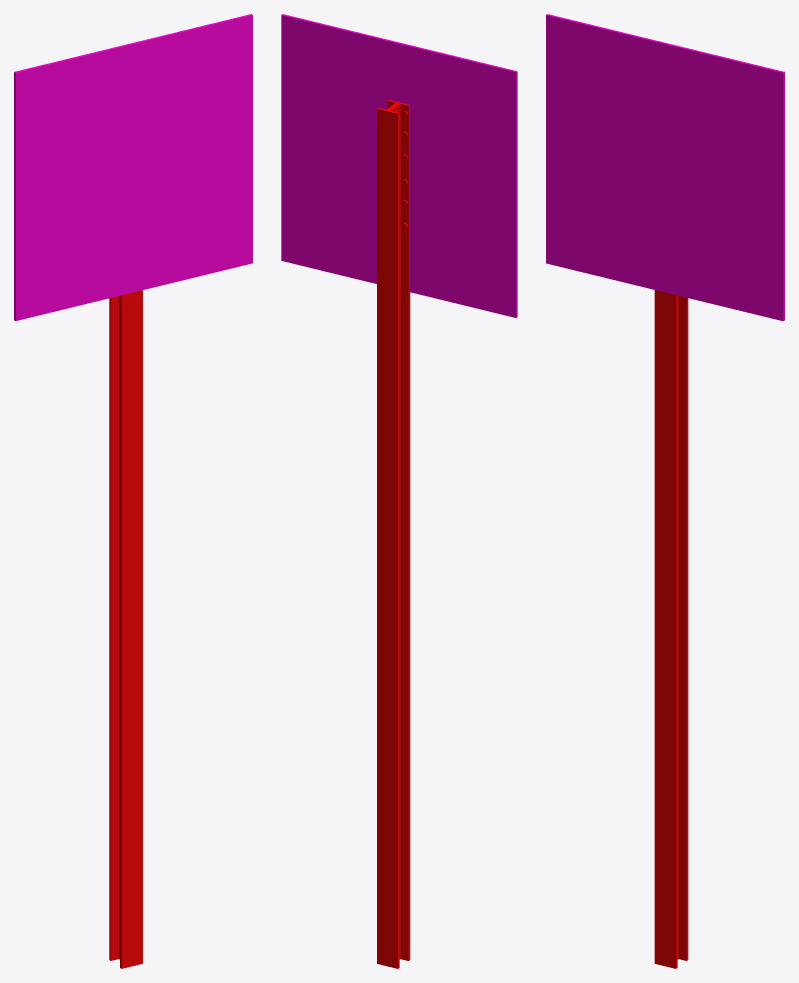
The model's file is HospitalSign.fbx.
The picture shows the model from 3 angles, left to right: view 1: azimuth 30°, elevation 25°; view 2: azimuth 150°, elevation 25°; view 3: azimuth 330°, elevation 25°; orthographic projection.
Visible parts, largest first — view 1: Cube, Cube_2; view 2: Cube, Cube_2; view 3: Cube, Cube_2.
Boxes of the visible parts, <box> form: Cube: <box>14,14,252,321</box>; Cube_2: <box>109,290,142,968</box>; Cube: <box>281,14,517,317</box>; Cube_2: <box>377,100,410,968</box>; Cube: <box>546,14,784,321</box>; Cube_2: <box>654,290,688,968</box>.
Bounding box in the file's own units: 70.5 × 262 × 6.98.
